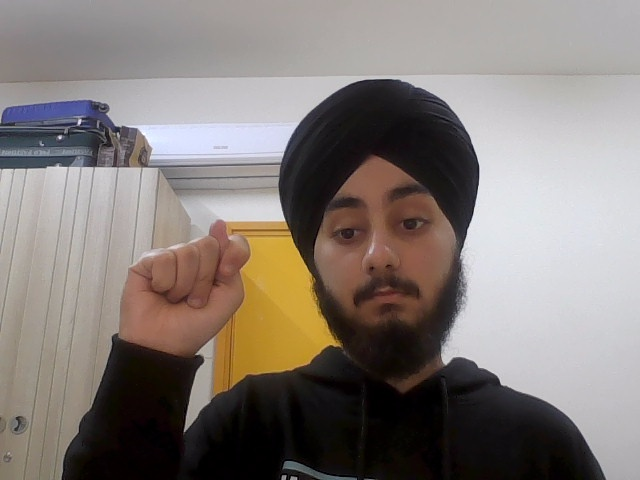Bathroom: (119, 218, 251, 354)
